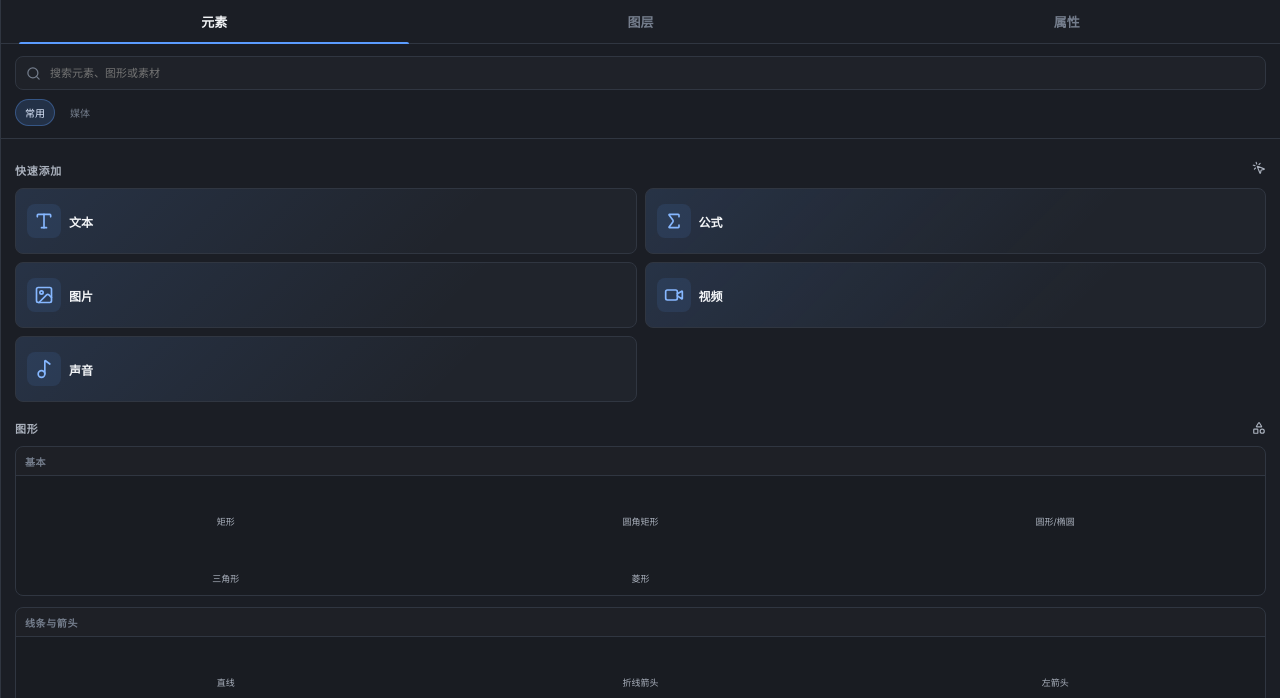
it: simple and professional editor modes › filters element contents without exposing professional-only component results
Type "菱形" into the search field named "搜索元素内容". click: (652, 73)
box: x1=48 y1=65 x2=1255 y2=81
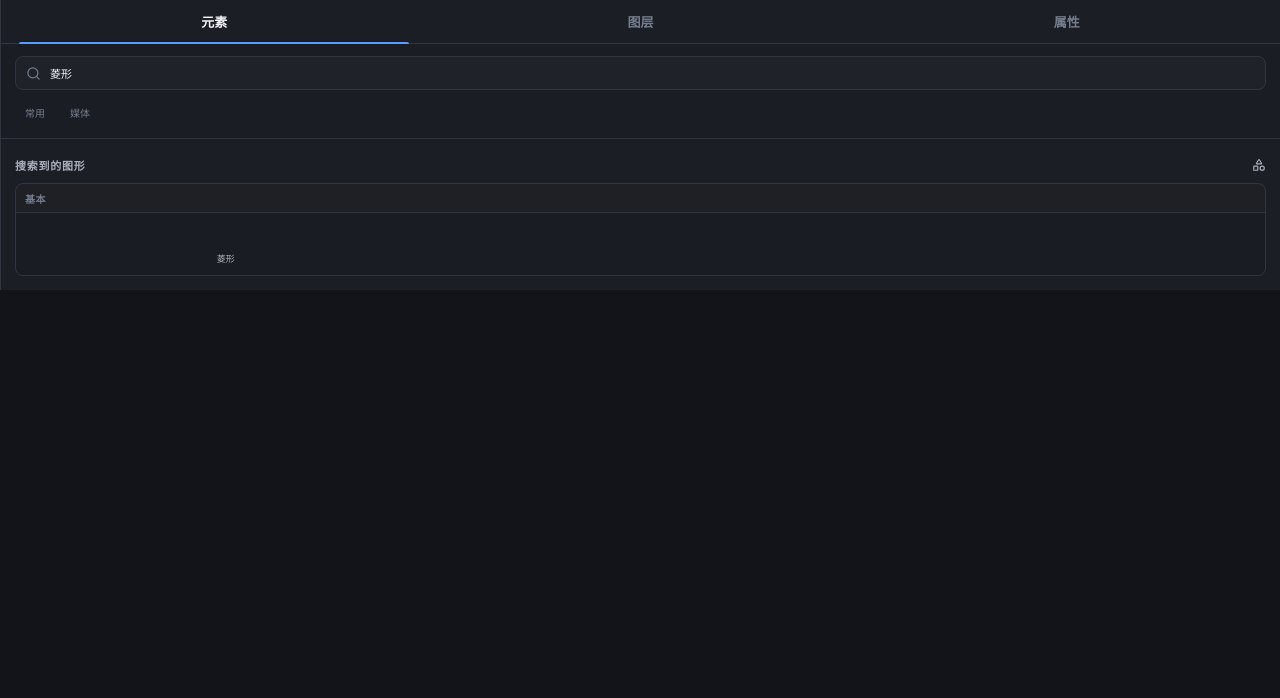
Check: the button with aria-label "添加菱形" is shown, box x1=19 y1=216 x2=433 y2=272
Check: the button with test id "add-text" is gone
Replace the text in the search field named "搜索元素内容" with "模式测试组件". click: (652, 73)
box: x1=48 y1=65 x2=1255 y2=81
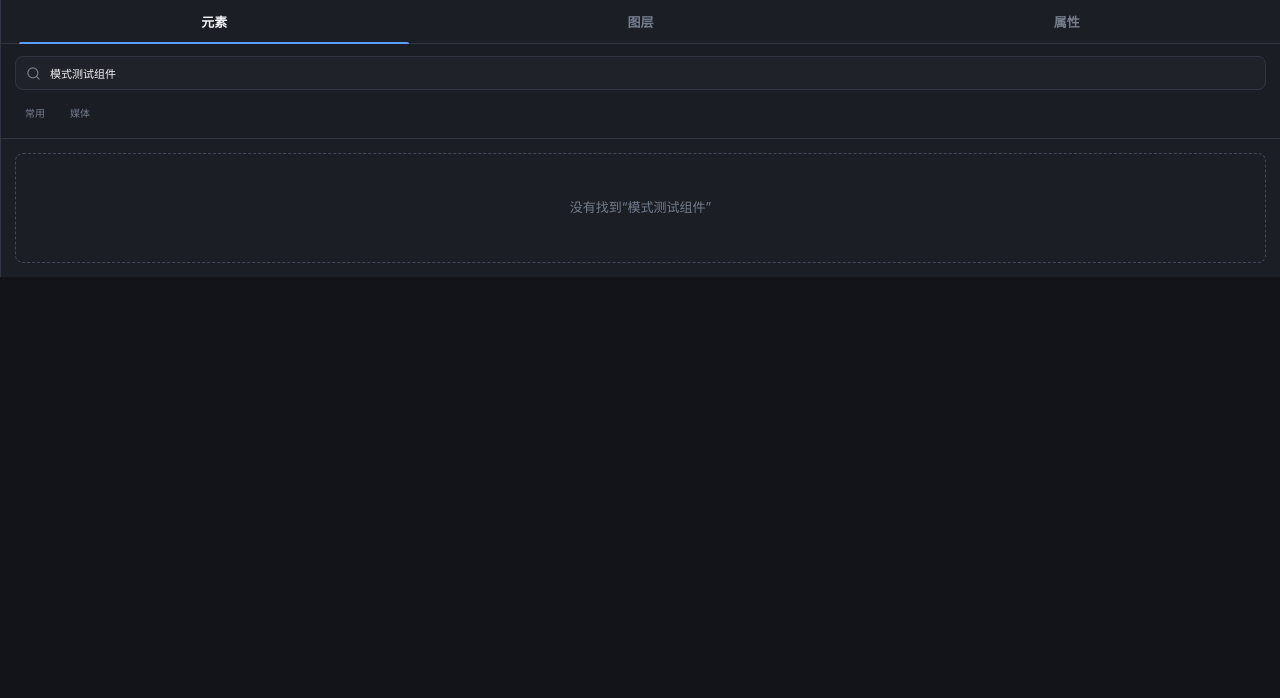
Check: the text "没有找到“模式测试组件”" is shown, box x1=15 y1=153 x2=1266 y2=263
Clear the search field named "搜索元素内容". click: (652, 73)
box: x1=48 y1=65 x2=1255 y2=81
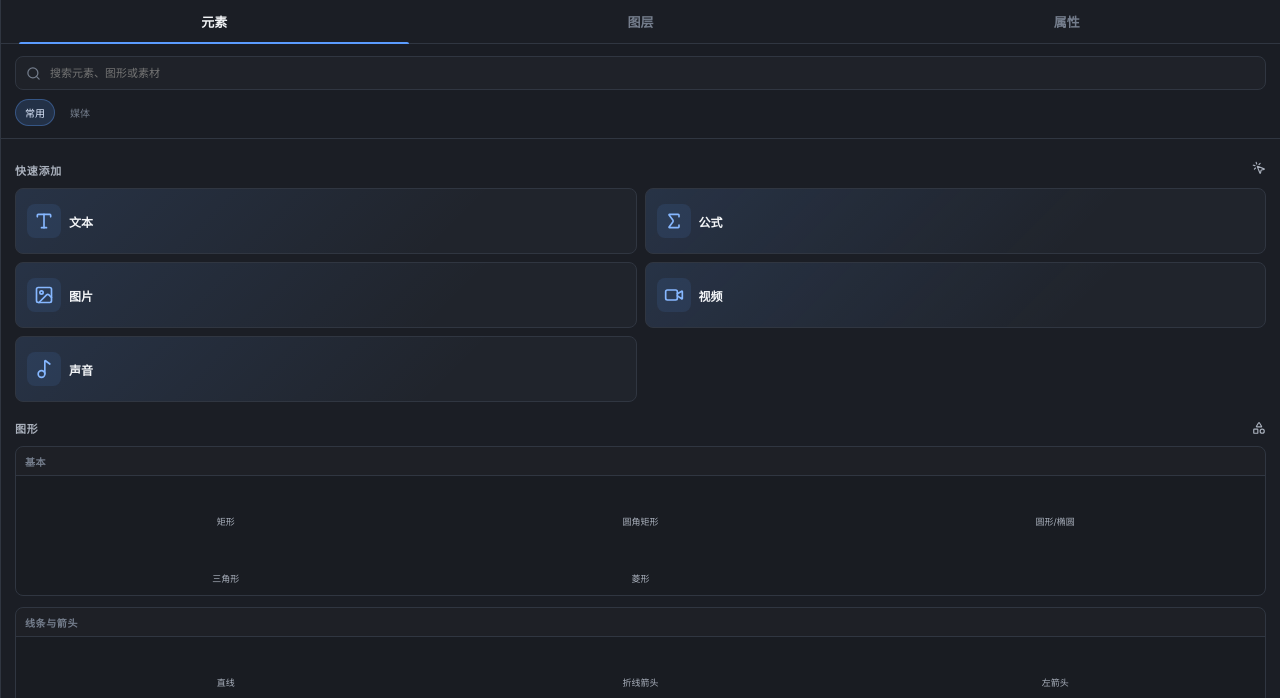
Check: the button with test id "add-text" is shown, box x1=15 y1=188 x2=636 y2=254
